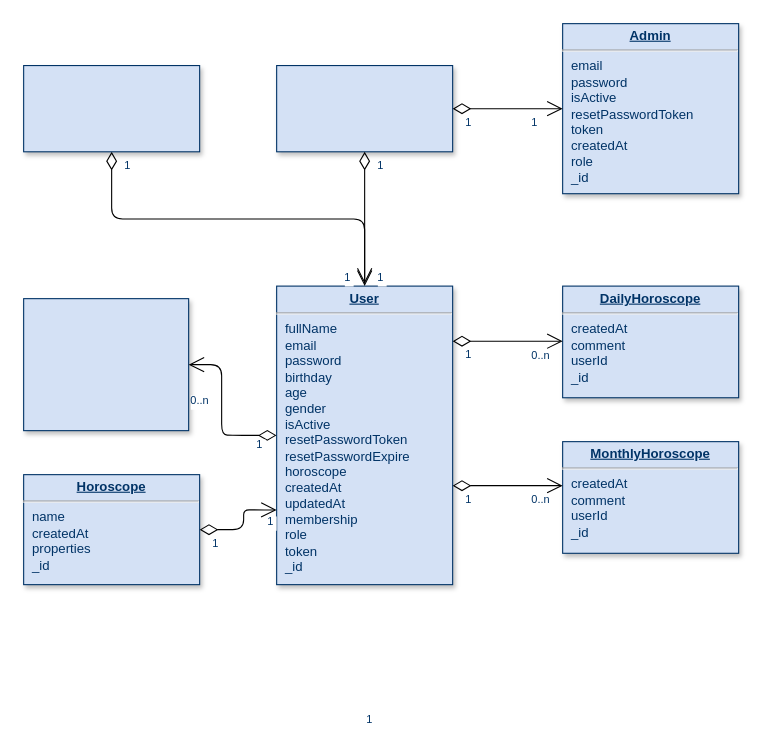
The diagram is 765 pixels wide and 745 high, and some of its shapes have lost their labels. Here are the shapes that lost their labels. From the top down, the centre of each, then its label:
(x=112, y=110): Membership name createdAt _id
(x=365, y=110): Role name createdAt _ id
(x=106, y=365): Purchases packageName user createdAt price isRefund _id
